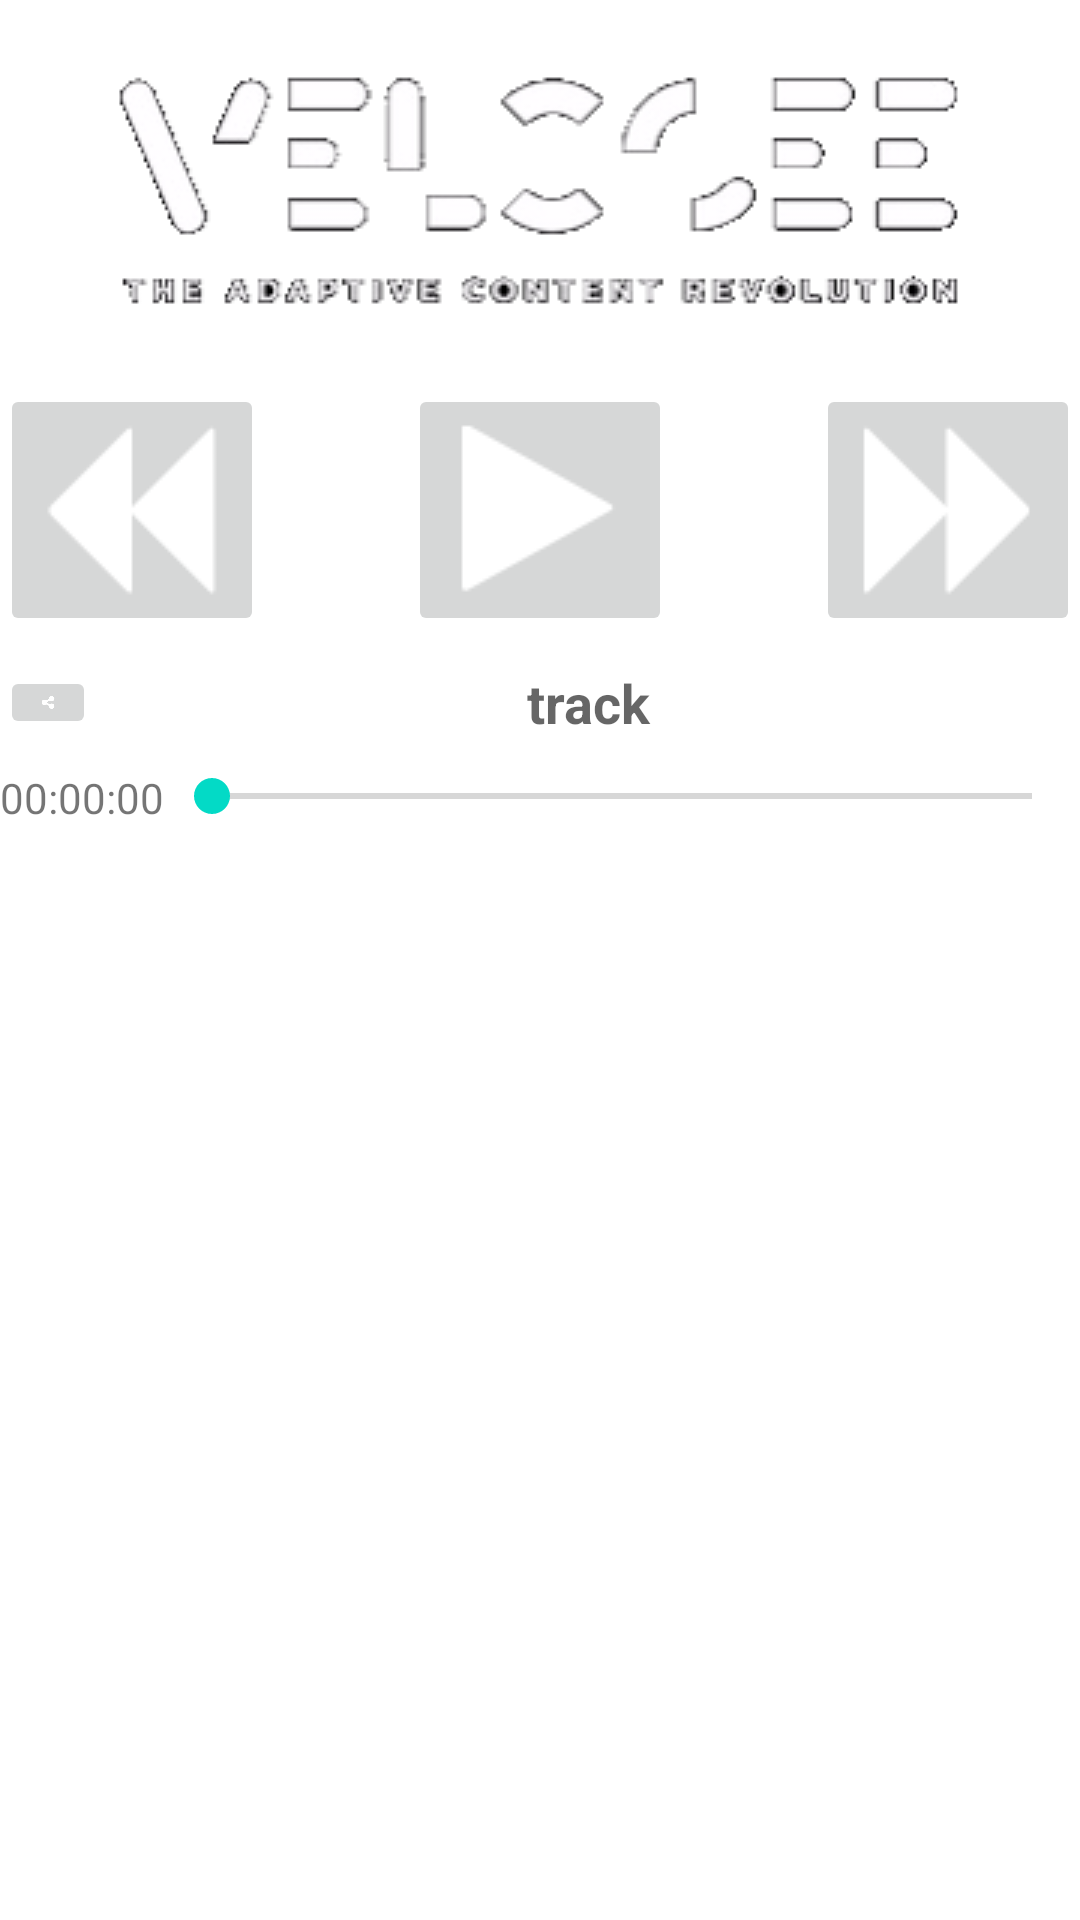

Point at icon controls on the screen. Image size 1080 x 1920, points as point (x, y).
play: point (540, 510)
share: point (48, 702)
